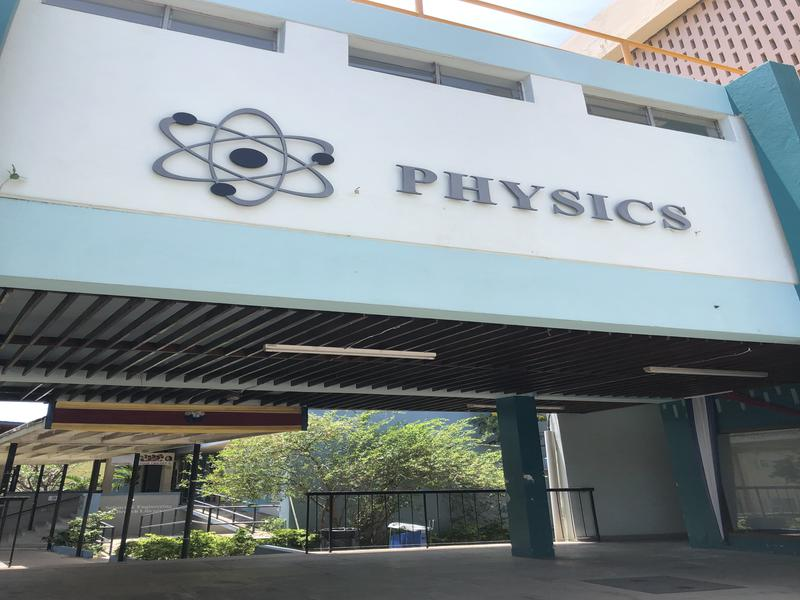18.0053657_-76.7491452_physicssign: (132, 89, 707, 260)
